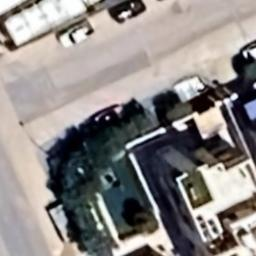pickup: (53, 18, 95, 49)
van: (106, 0, 150, 24)
